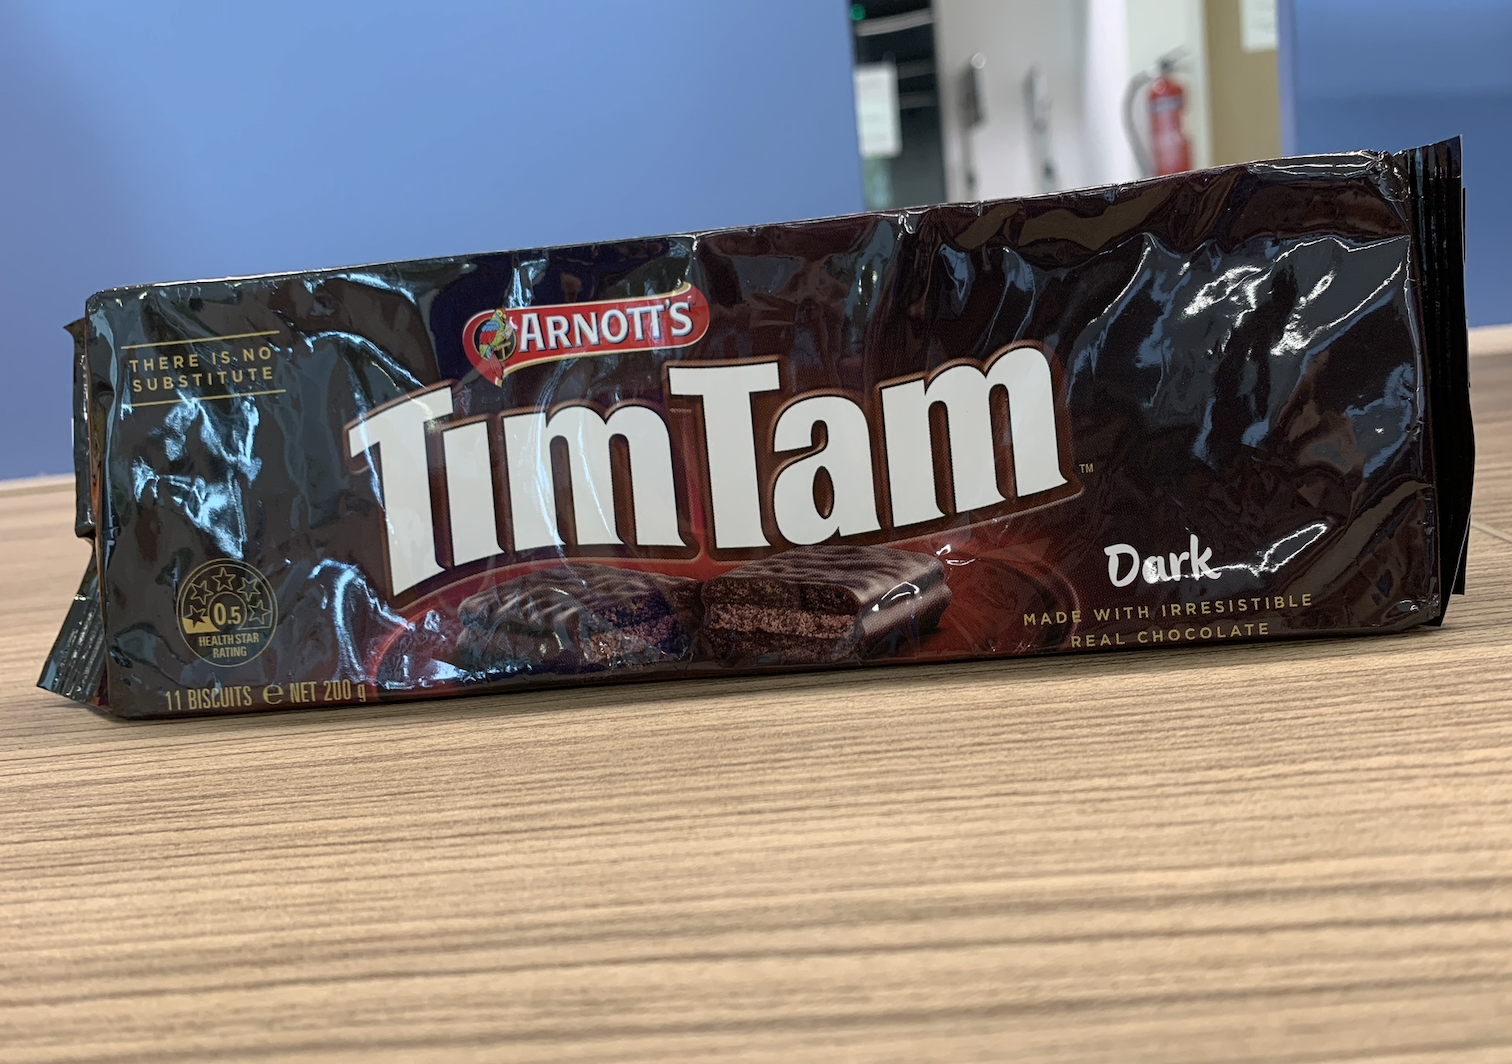cookies_150g: (134, 284, 1407, 663)
